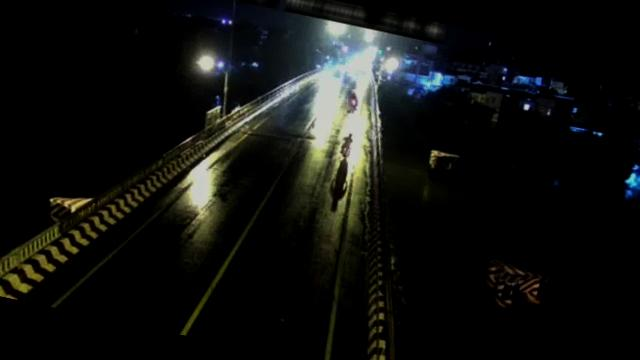Bike: (338, 128, 355, 156), (345, 87, 364, 112)
